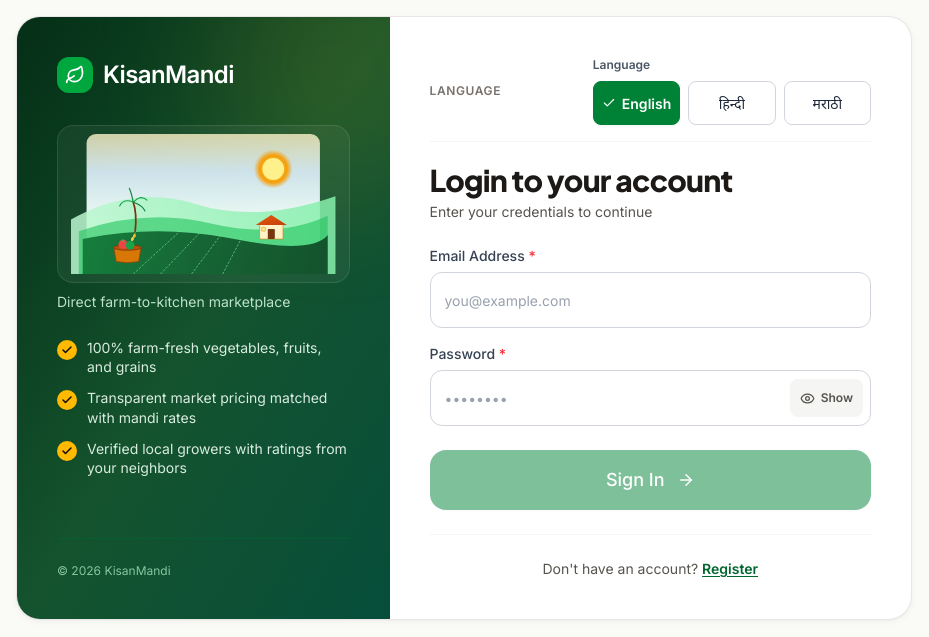
it: Part 2: Login & Register › renders Login form with 56px inputs and word+icon password toggle
Expected: the heading "Login to your account" is shown, [430,161,732,199]
Click the button with aria-label "Show password".
click(826, 398)  # box [790,379,863,417]
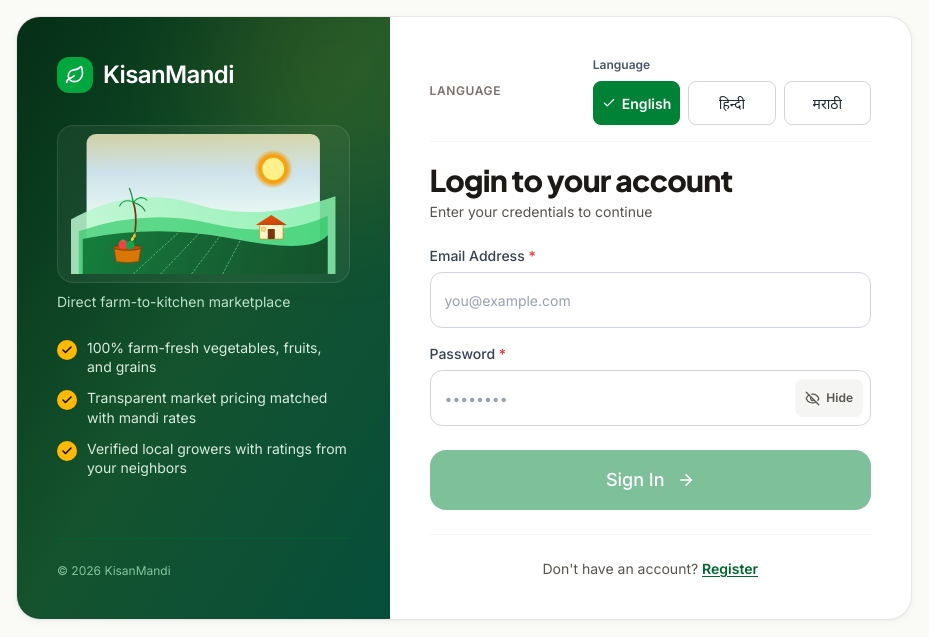
Result: the button named "Show password" reads "Hide" at [795,379,863,417]
